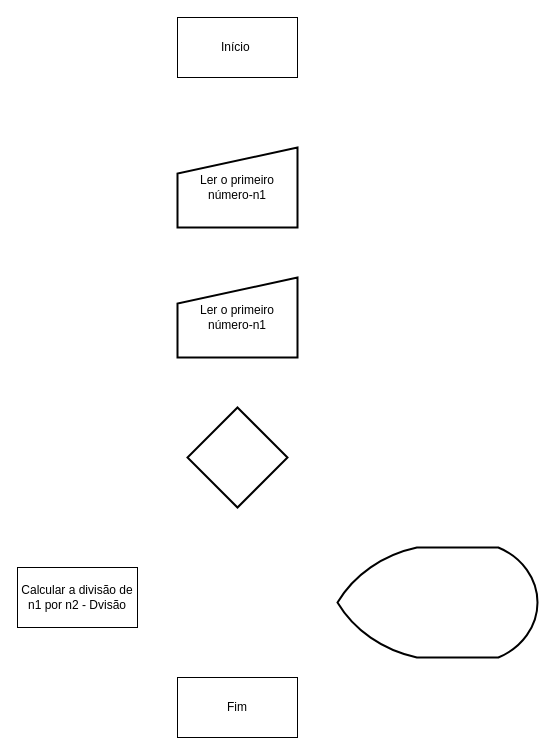
The diagram is 556 pixels wide and 755 high, and some of its shapes have lost their labels. The centre of each missing label's shape, as x and y in pixels:
Mostrar em vídeo não é permitido divisão por 0: point 437,602
n2=0: point 237,457
